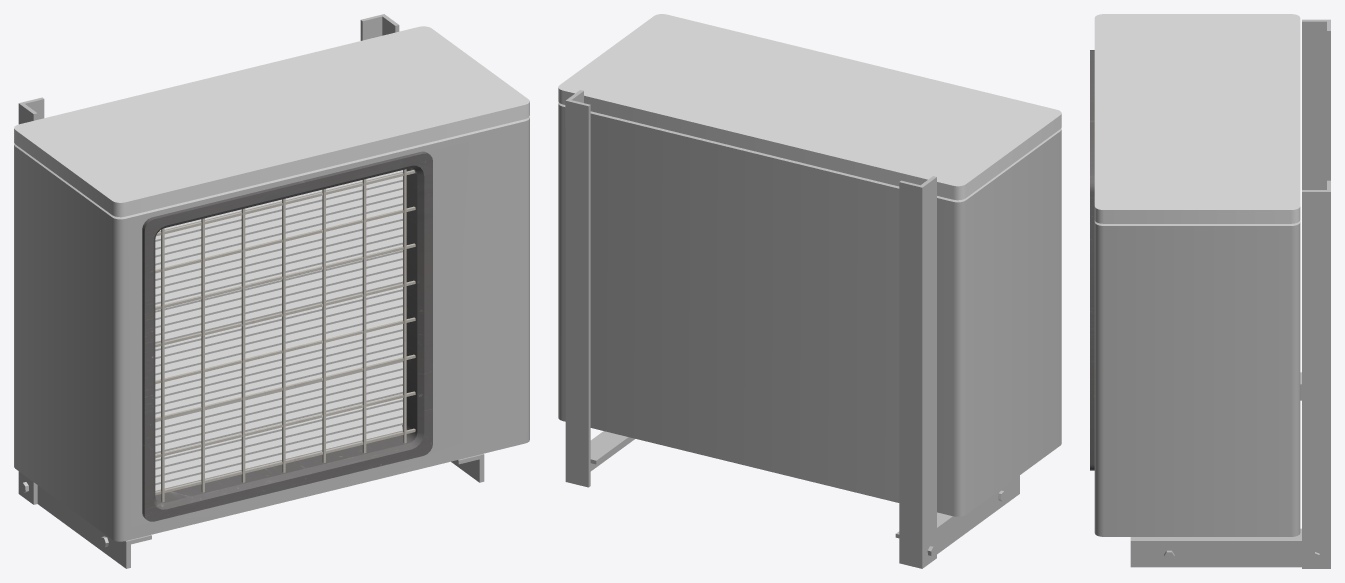
File: KB3D_CBP_ACunit_R.fbx
3 views of the same model, side by side, from view 1: azimuth 30°, elevation 25°; view 2: azimuth 150°, elevation 25°; view 3: azimuth 270°, elevation 25° (orthographic). The views are drawn at different scales.
Visible parts, largest first — view 1: KB3D_CBP_ACunit_R_Main; view 2: KB3D_CBP_ACunit_R_Main; view 3: KB3D_CBP_ACunit_R_Main.
Part boxes in pixels (x1,y1,x2,y2): KB3D_CBP_ACunit_R_Main: [14, 14, 529, 568]; KB3D_CBP_ACunit_R_Main: [558, 14, 1061, 568]; KB3D_CBP_ACunit_R_Main: [1090, 14, 1330, 568].
Bounding box in the file's own units: 196 × 175 × 102.
